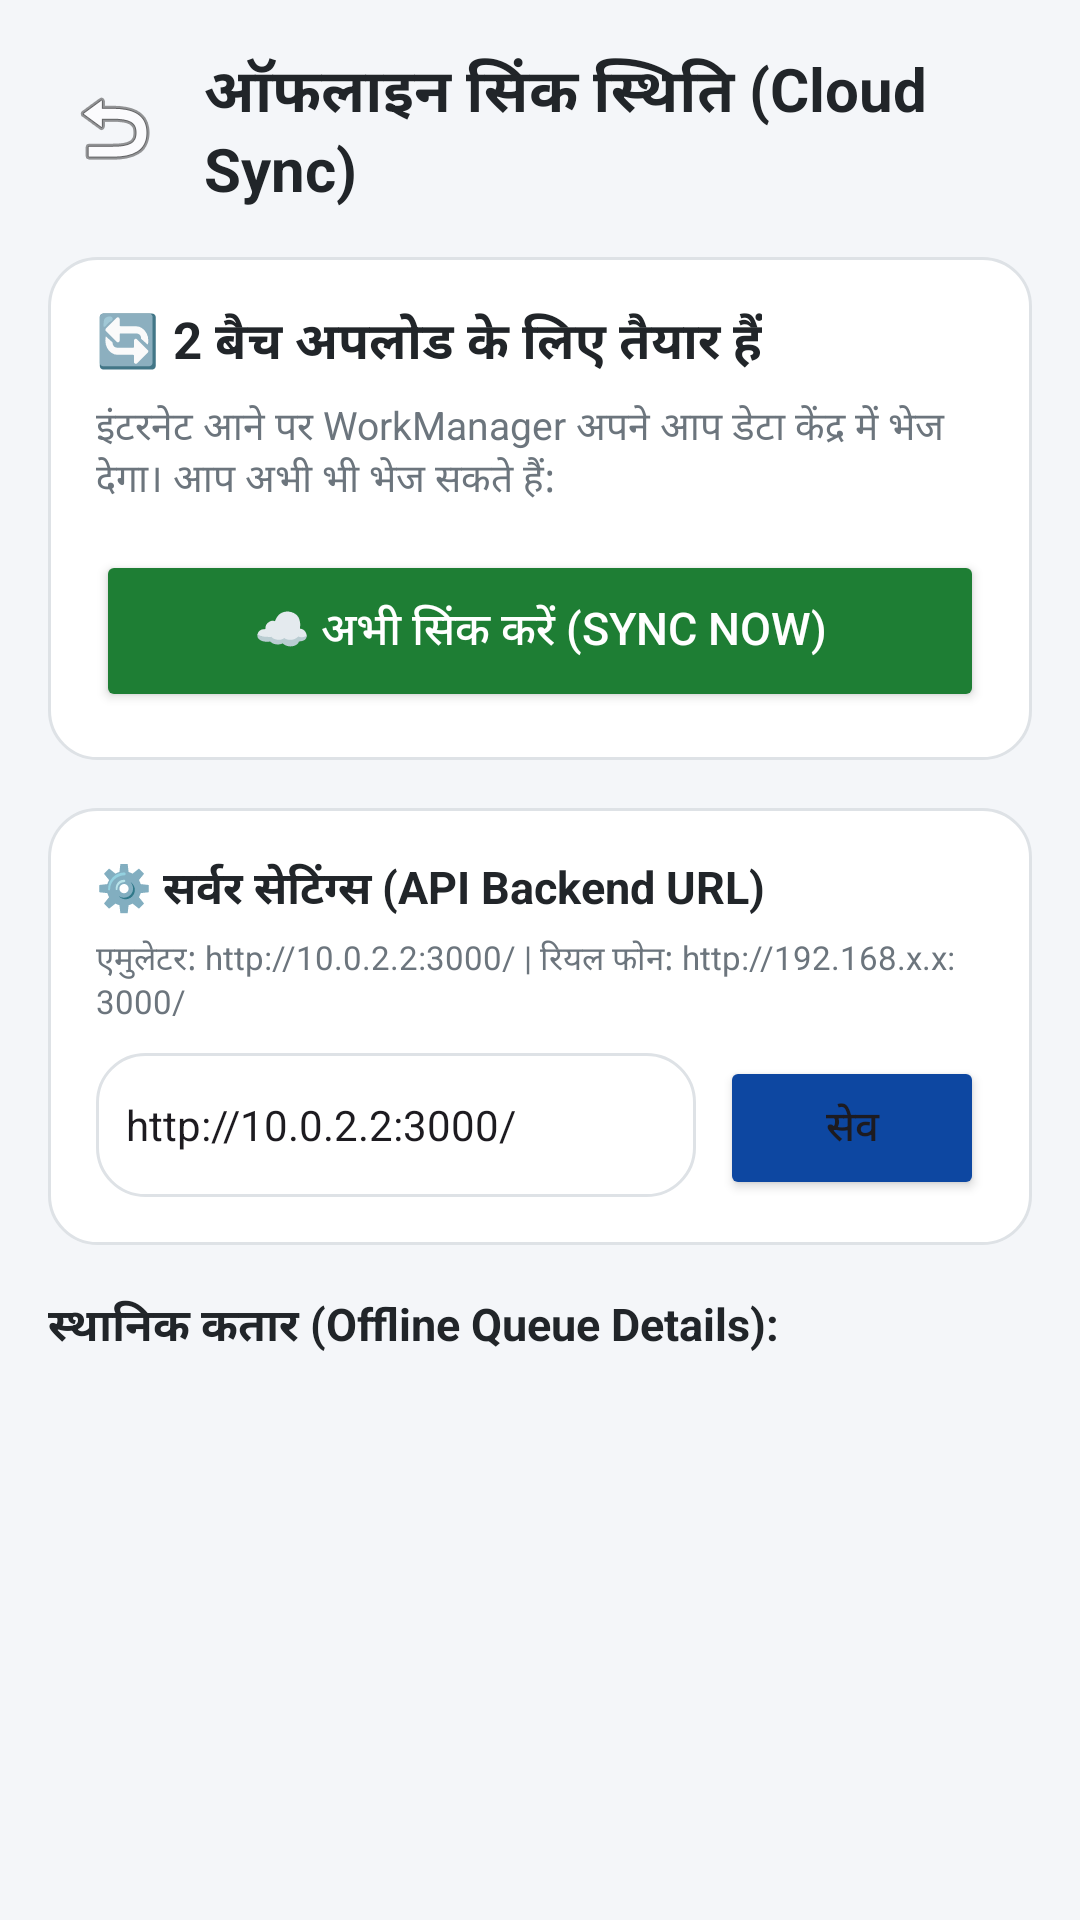

Icons on this 1080 x 1920 Android screen, each with the point to tap as point (x, y):
revert: point (115, 128)
